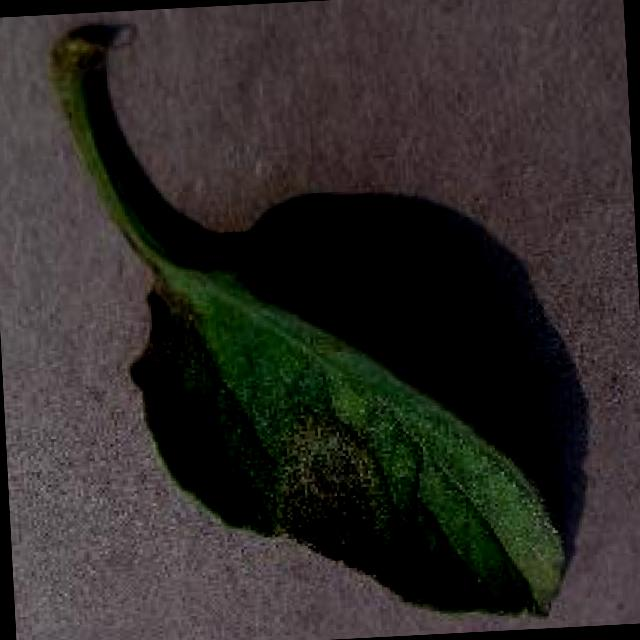leaf blight: (55, 47, 567, 615)
